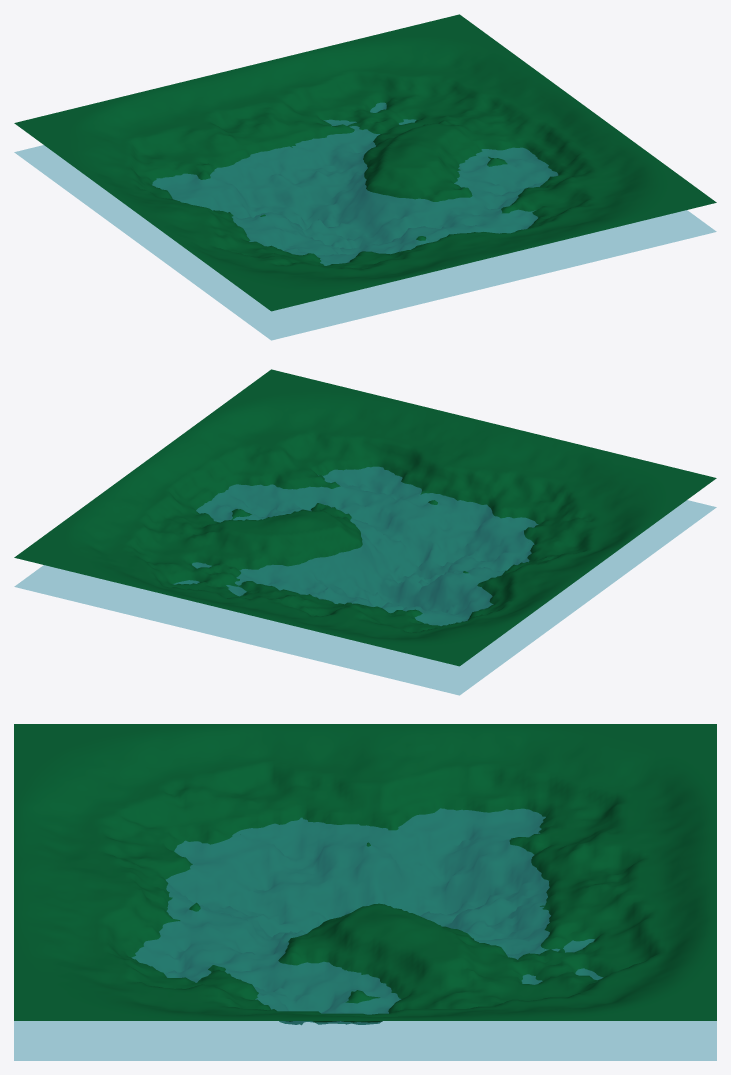
The model's file is Land.blank.glb.
3 views of the same model, one above another, from view 1: azimuth 30°, elevation 25°; view 2: azimuth 150°, elevation 25°; view 3: azimuth 270°, elevation 25° (orthographic). The views are drawn at different scales.
Visible parts, largest first — view 1: Grass, Water; view 2: Grass, Water; view 3: Grass, Water.
Part boxes in pixels (x1,y1,x2,y2): Grass: [14, 14, 716, 311]; Water: [14, 102, 716, 340]; Grass: [14, 369, 716, 666]; Water: [14, 466, 716, 695]; Grass: [14, 724, 716, 1024]; Water: [14, 808, 716, 1060].
Bounding box in the file's own units: 4 × 0.6895 × 4.
